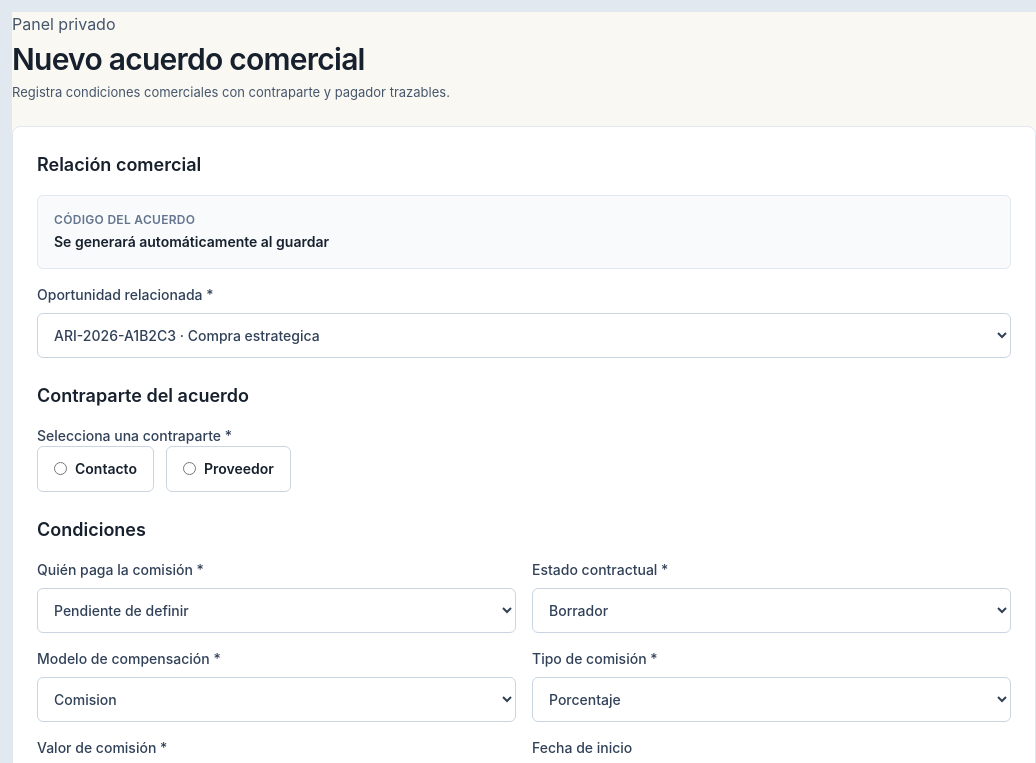
Test: AdminCommercialAgreements › cleans selected counterparty when switching type
This screenshot has width=1036, height=763.
Click the radio button labelled "Contacto".
click(60, 469)  # box [54,462,67,476]
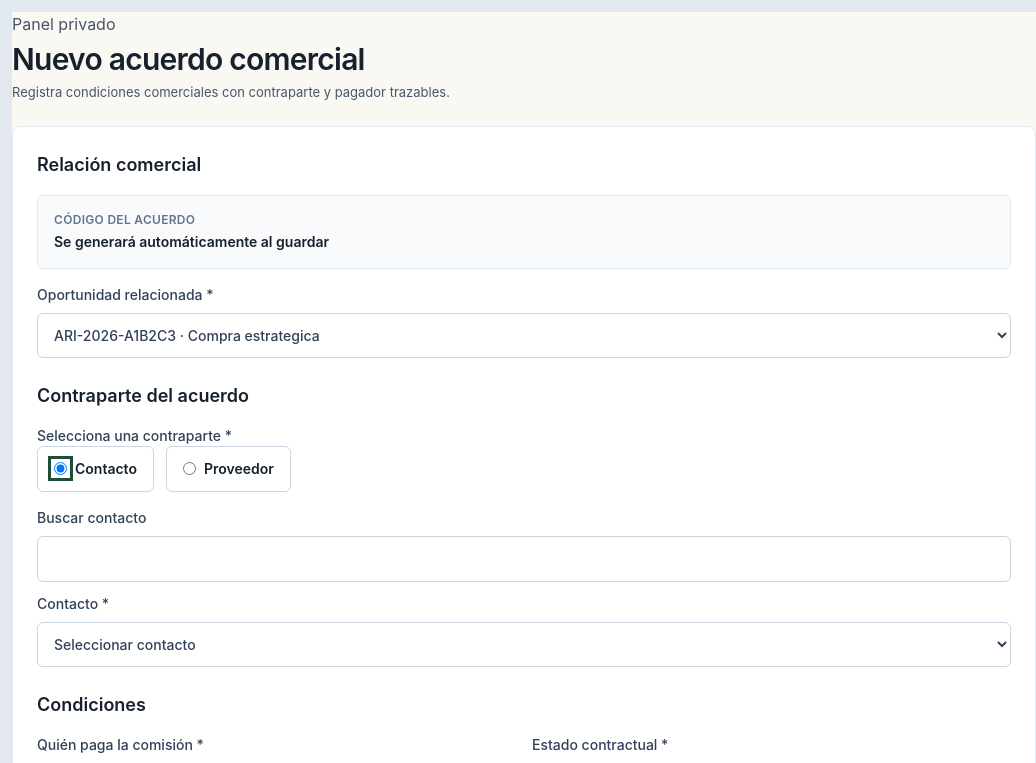
Select "Contraparte Uno · Contraparte Uno" in the dropdown labelled "Contacto *" at (524, 644), box [37,622,1011,667]
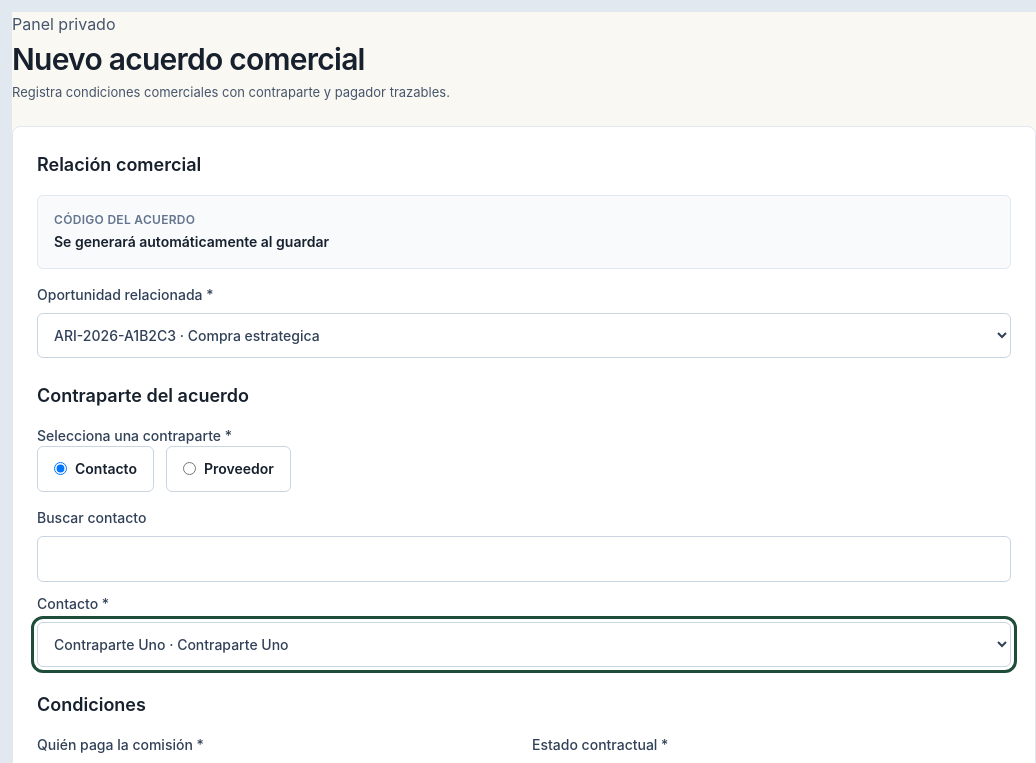
Click the radio button labelled "Proveedor".
click(190, 469)  # box [183,462,196,476]
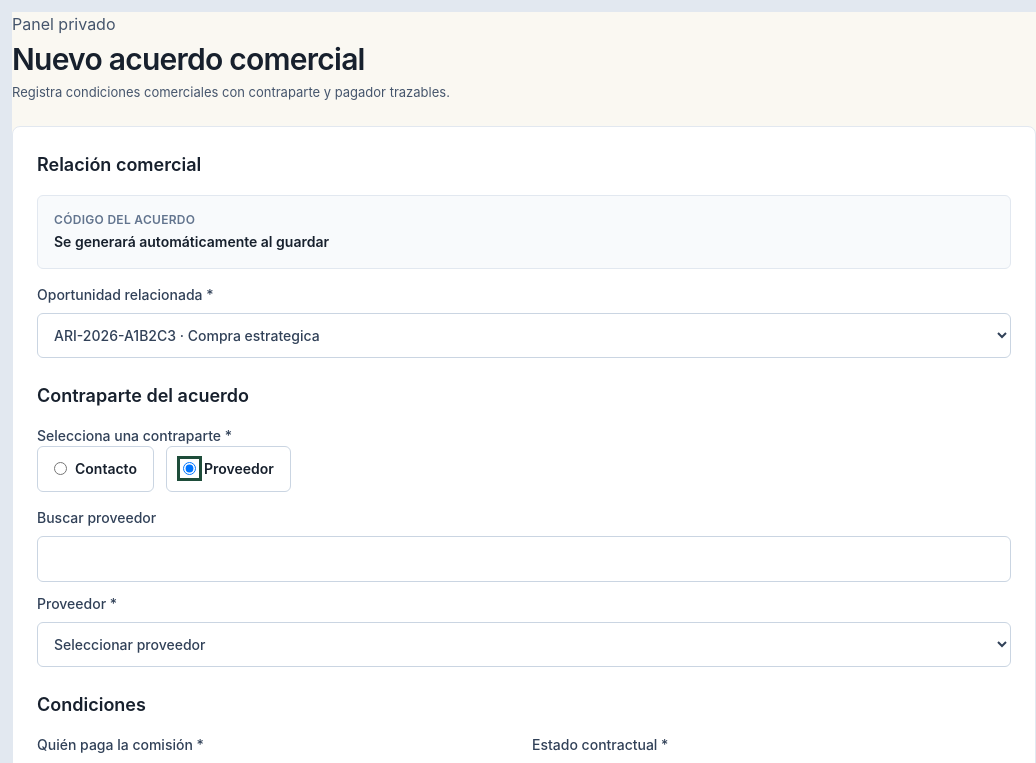
Result: the label labelled "Contacto *" is gone
Select "Proveedor Sur · Servicios" in the dropdown labelled "Proveedor *" at (524, 644), box [37,622,1011,667]
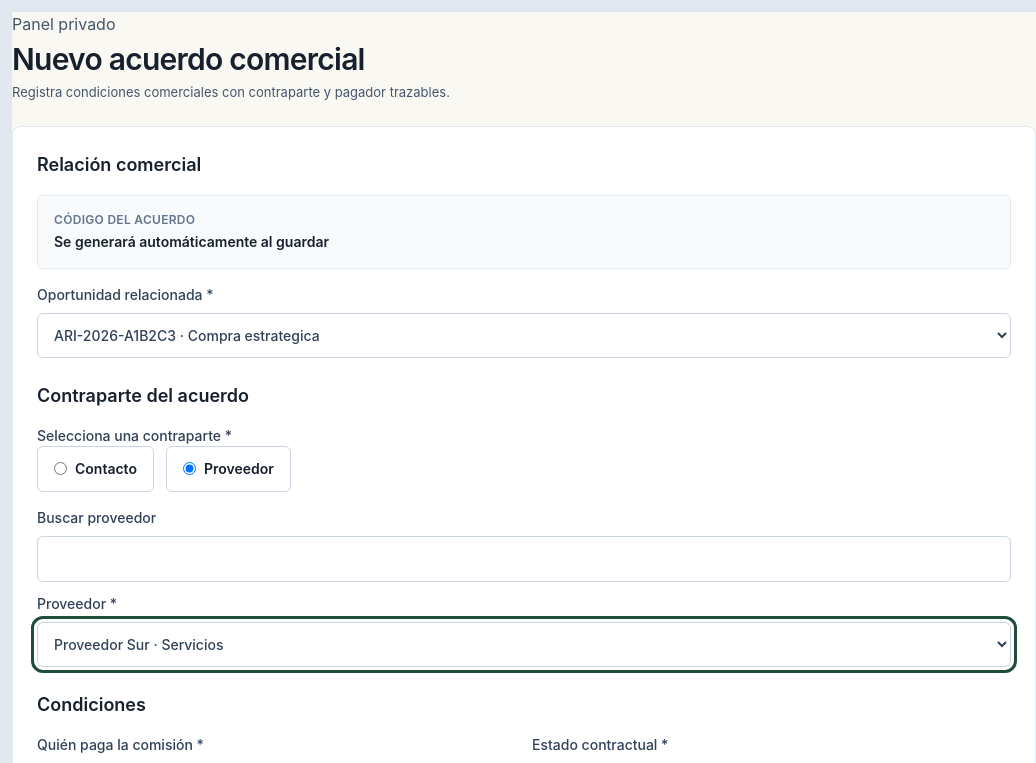
Click the radio button labelled "Contacto".
click(60, 469)  # box [54,462,67,476]
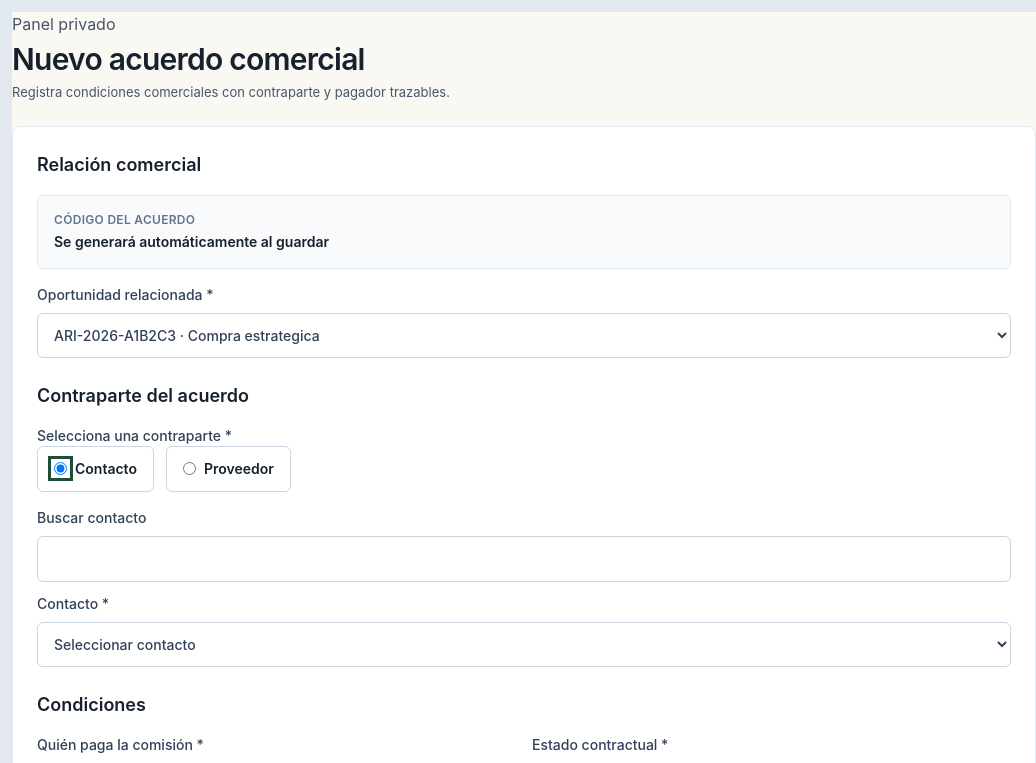
Result: the label labelled "Proveedor *" is gone
Result: the dropdown labelled "Contacto *" shows "Seleccionar contacto" at [37,622,1011,667]
